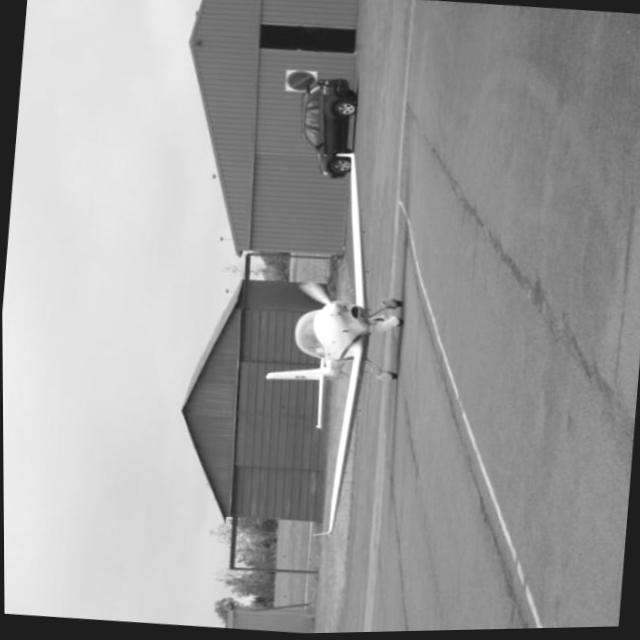aeroplane: (250, 144, 416, 544)
